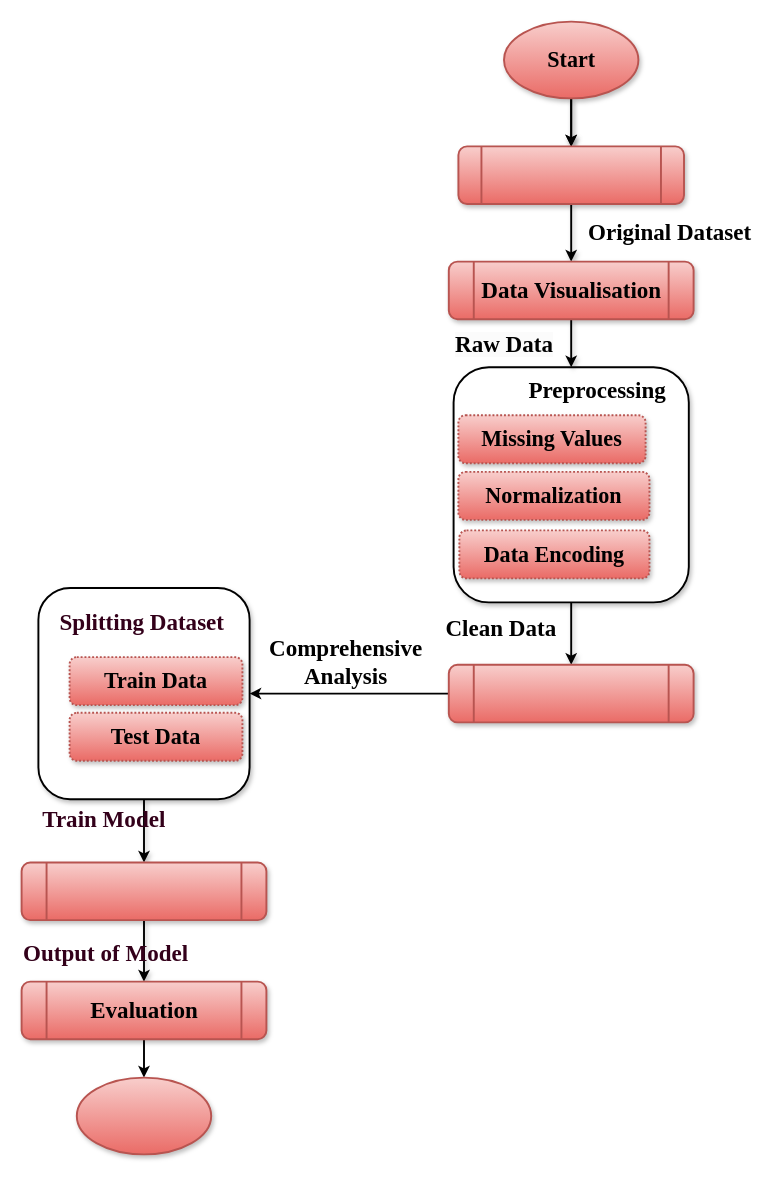
Image size: 782x1178. Some labels were removed from this diagram. The shapes that lost their labels are listed below. From the top down, each one's centre as x and y in pixels, then its label:
At (x=571, y=176): "Acquire Dataset".
At (x=572, y=695): "Compression".
At (x=144, y=892): "Predictive Model".
At (x=144, y=1117): "Result".
